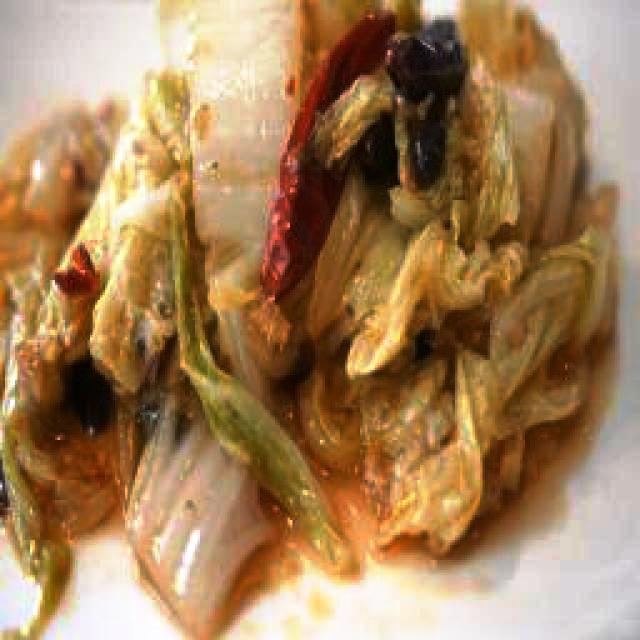chinese_cabbage: (7, 0, 626, 567)
